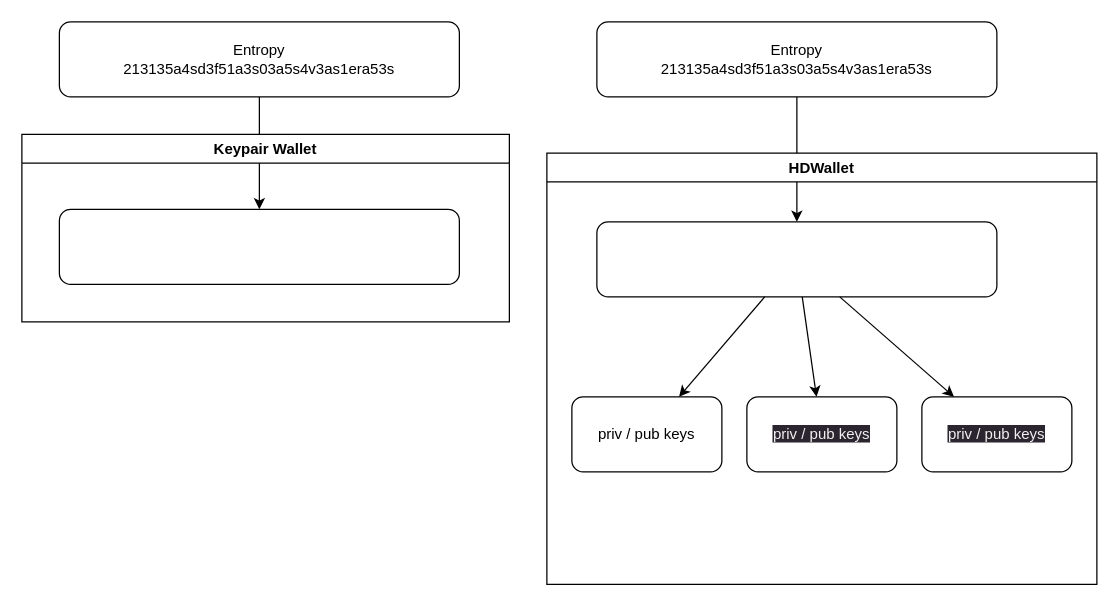
This 1119x606 diagram has some shape labels left out. The centre of each missing label's shape, as x and y in pixels:
Private / public key (address): [258,246]
Private / public key (address) WORDS: [796,259]
